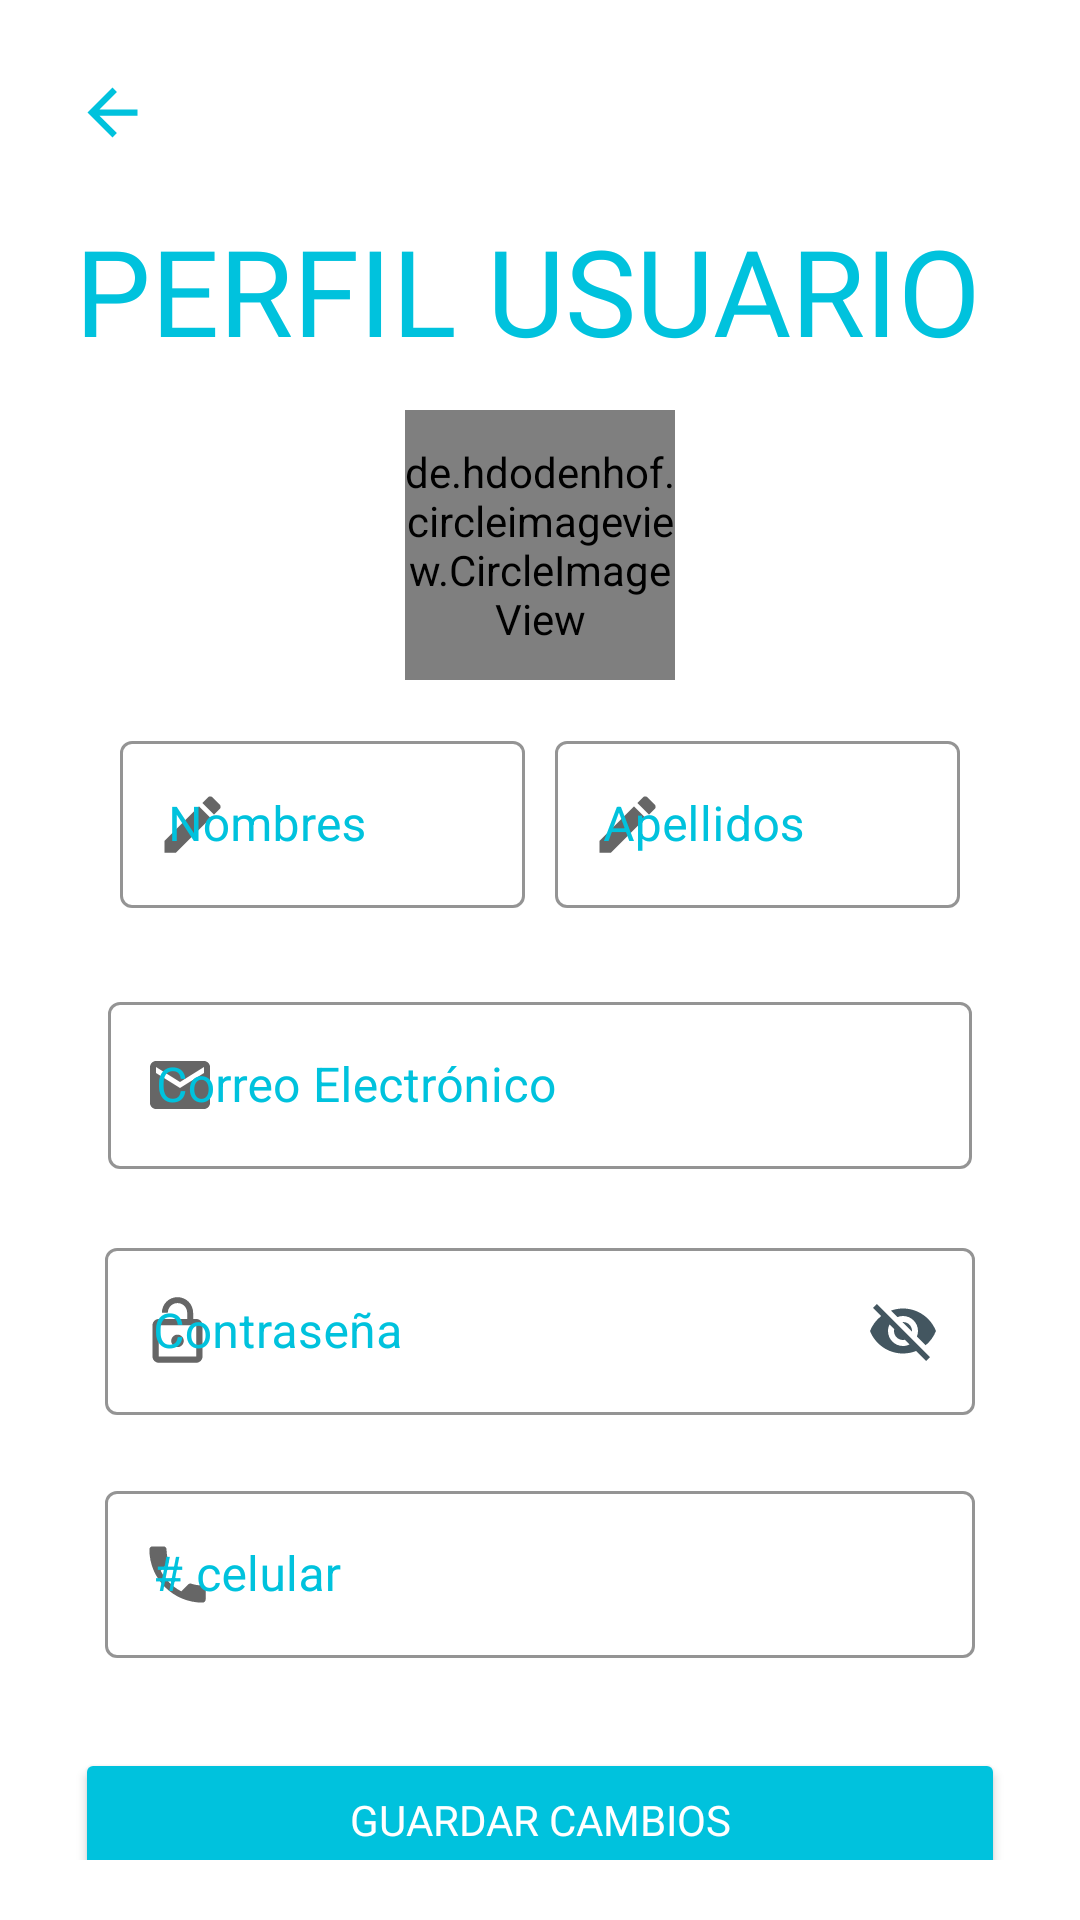

Where to tap for icons on this 1080px x 1920px app screen, as point (x, y):
arrow back: point (112, 112)
